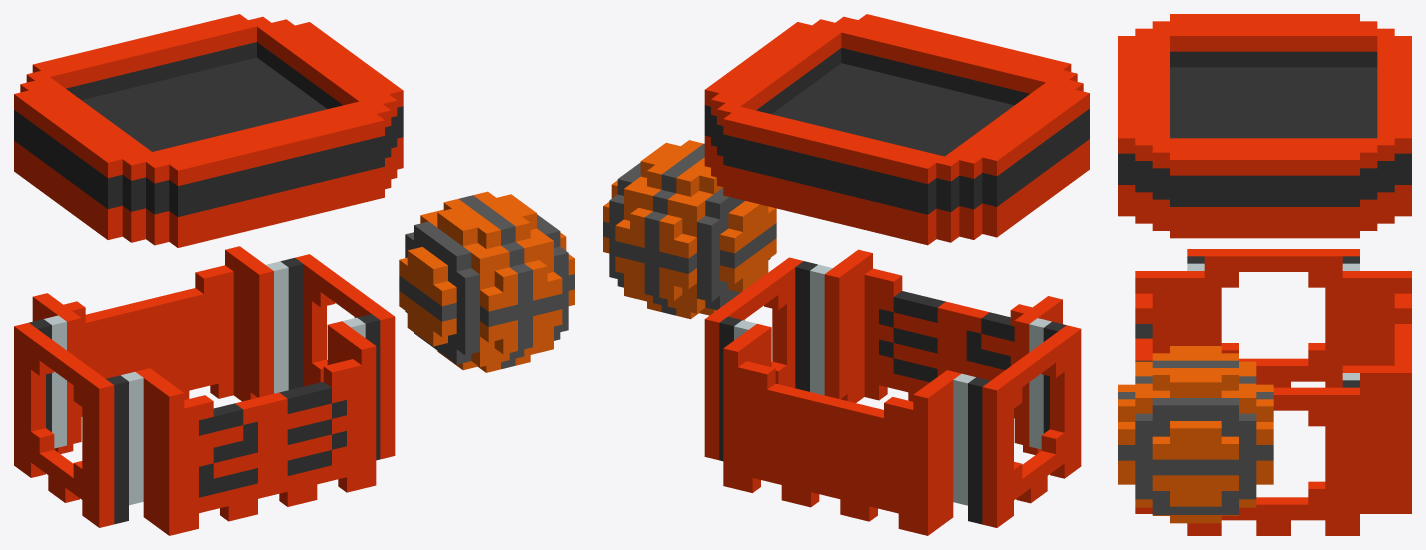
The model's file is 63- air gotchi.fbx.
3 views of the same model, side by side, from view 1: azimuth 30°, elevation 25°; view 2: azimuth 150°, elevation 25°; view 3: azimuth 270°, elevation 25° (orthographic). The views are drawn at different scales.
Visible parts, largest first — view 1: 227, 226, 225.1, 225, 227.1; view 2: 227, 226, 225.1, 225, 227.1; view 3: 226, 227, 225.1, 225, 227.1.
Part boxes in pixels (x1=…): 227: x1=14, y1=246, x2=395, y2=535; 226: x1=14, y1=14, x2=403, y2=247; 225.1: x1=399, y1=191, x2=574, y2=372; 225: x1=399, y1=195, x2=574, y2=369; 227.1: x1=44, y1=261, x2=365, y2=505; 227: x1=704, y1=249, x2=1081, y2=535; 226: x1=704, y1=14, x2=1089, y2=245; 225.1: x1=603, y1=140, x2=776, y2=319; 225: x1=603, y1=143, x2=776, y2=315; 227.1: x1=734, y1=264, x2=1051, y2=505; 226: x1=1118, y1=14, x2=1411, y2=238; 227: x1=1135, y1=249, x2=1411, y2=535; 225.1: x1=1118, y1=346, x2=1273, y2=523; 225: x1=1118, y1=360, x2=1273, y2=514; 227.1: x1=1187, y1=263, x2=1359, y2=380.
Size of the model in its own units: 310 by 240 by 170.
Materials: 5 (5 with a texture image).
